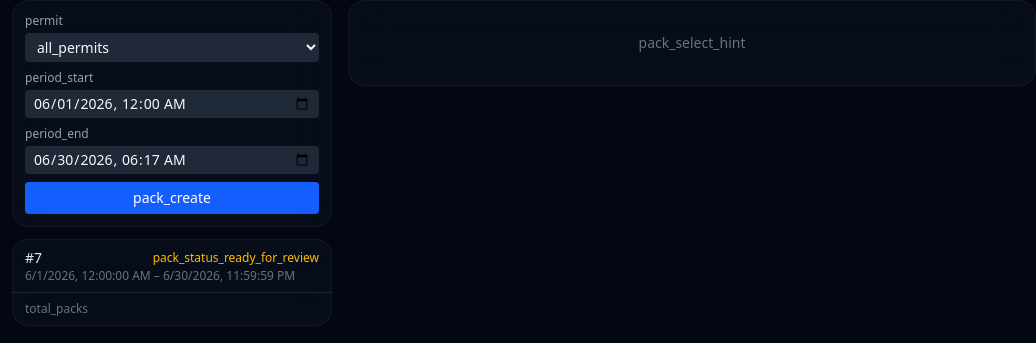
Test: Compliance ReportPacksTab › enables approve for admins when there are no blocking issues
Click the text "#7": (34, 258) left=25, top=248, right=42, bottom=268
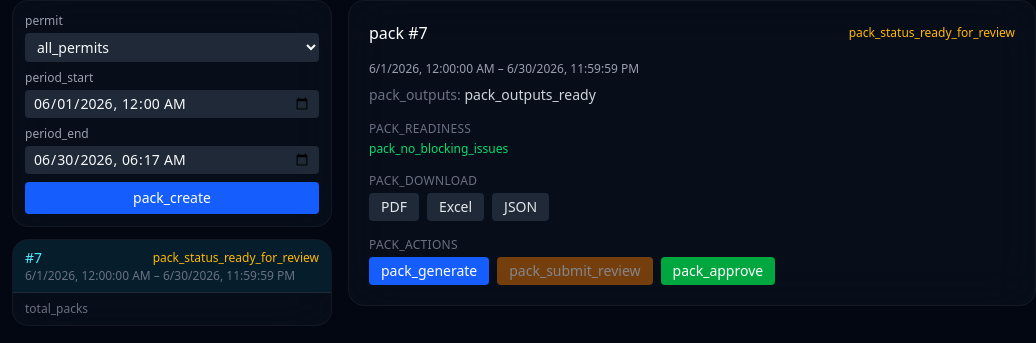
Result: the text "pack_no_blocking_issues" is shown at left=369, top=140, right=508, bottom=157
Result: the button "pack_approve" is enabled at left=660, top=257, right=775, bottom=285
